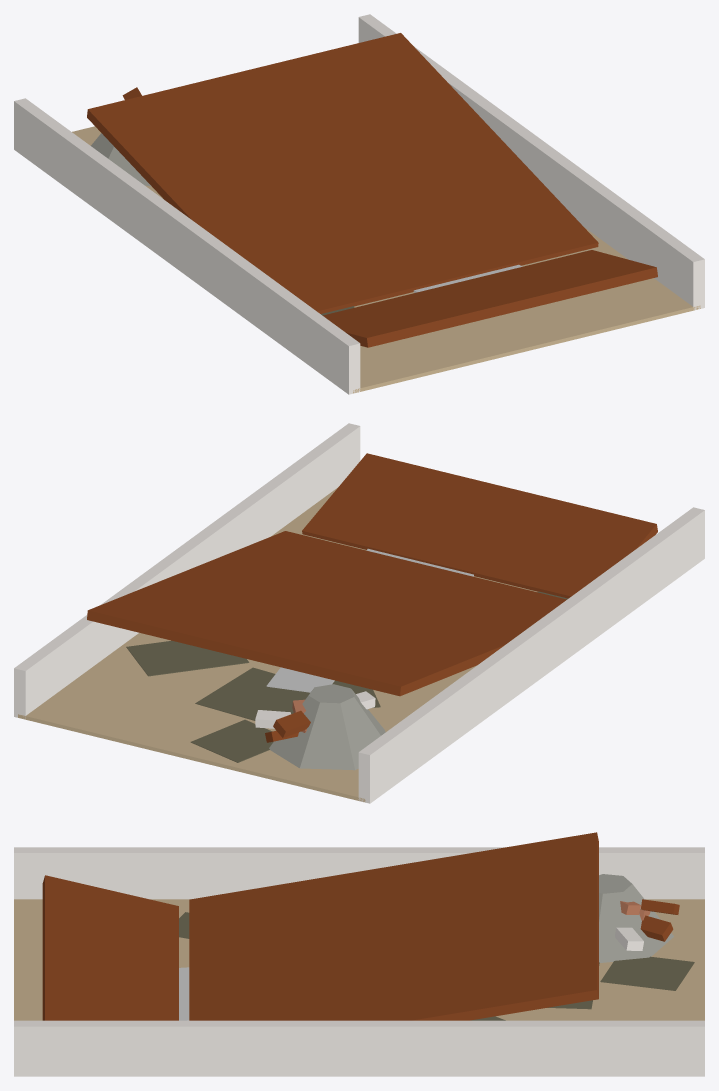
File: SM_Solar_v4_Tejas_LOD0.fbx
3 renders of one model, top to bottom at view 1: azimuth 30°, elevation 25°; view 2: azimuth 150°, elevation 25°; view 3: azimuth 270°, elevation 25°, orthographic. The views are drawn at different scales.
Parts seen in each view (by area): view 1: SM_sagunto_vivo_v9_LOD0; view 2: SM_sagunto_vivo_v9_LOD0; view 3: SM_sagunto_vivo_v9_LOD0.
Boxes of the visible parts, box(x1,y1,x2,y2) form: SM_sagunto_vivo_v9_LOD0: box(14, 14, 704, 394); SM_sagunto_vivo_v9_LOD0: box(14, 423, 704, 803); SM_sagunto_vivo_v9_LOD0: box(14, 832, 704, 1076).
Bounding box in the file's own units: 6.14 × 1.23 × 10.
